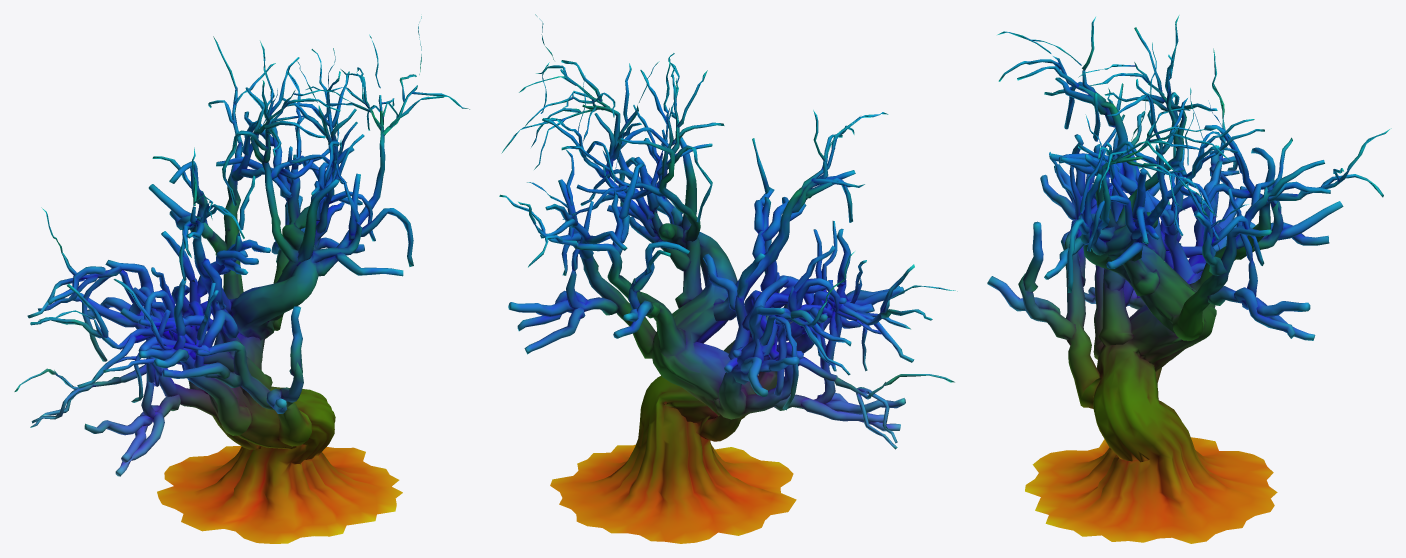
Rendered from SM_Tree_Trunk.FBX.
The picture shows the model from 3 angles, left to right: view 1: azimuth 30°, elevation 25°; view 2: azimuth 150°, elevation 25°; view 3: azimuth 270°, elevation 25°; orthographic projection. The views are drawn at different scales.
Visible parts, largest first — view 1: SM_Tree_Trunk; view 2: SM_Tree_Trunk; view 3: SM_Tree_Trunk.
Boxes of the visible parts, x1=… form: SM_Tree_Trunk: x1=14, y1=16, x2=469, y2=543; SM_Tree_Trunk: x1=499, y1=14, x2=957, y2=543; SM_Tree_Trunk: x1=987, y1=15, x2=1391, y2=543.
Size of what is drawn, in the model's own units: 2132 by 1596 by 2055.
